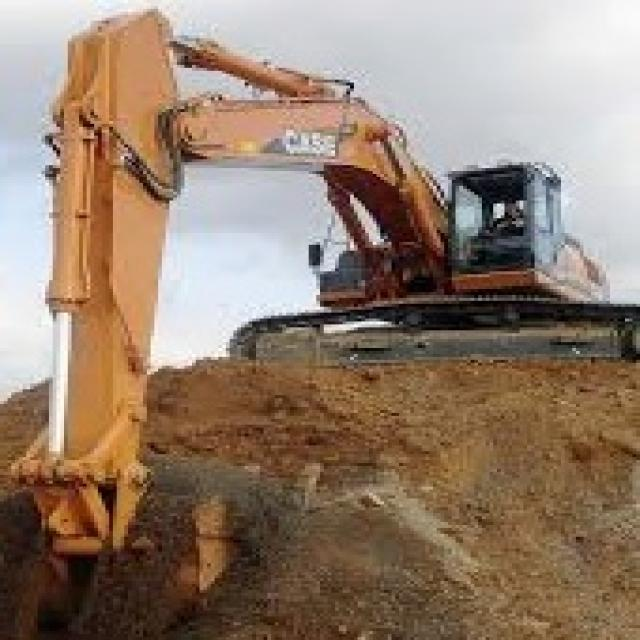excavator: (245, 136, 623, 395)
